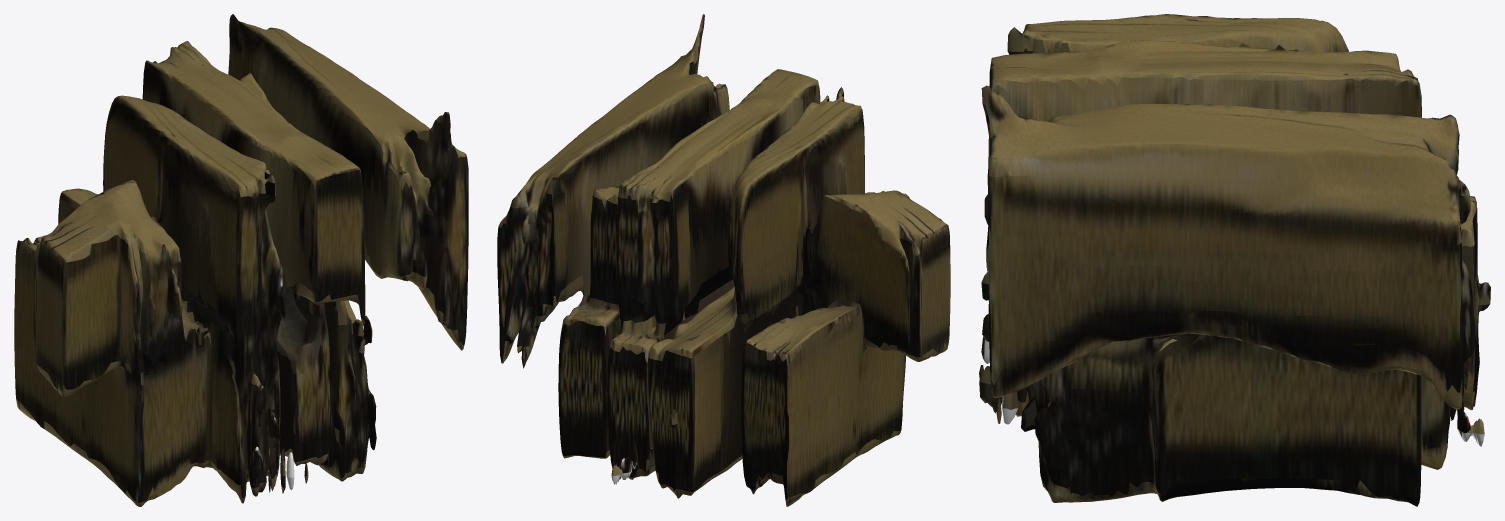
The model's file is debris-timber.glb.
3 views of the same model, side by side, from view 1: azimuth 30°, elevation 25°; view 2: azimuth 150°, elevation 25°; view 3: azimuth 270°, elevation 25° (orthographic). The views are drawn at different scales.
Visible parts, largest first — view 1: tmpg8bpv40l.ply; view 2: tmpg8bpv40l.ply; view 3: tmpg8bpv40l.ply.
Boxes of the visible parts, left/top/right/bottom form: tmpg8bpv40l.ply: left=14, top=14, right=468, bottom=506; tmpg8bpv40l.ply: left=497, top=14, right=950, bottom=506; tmpg8bpv40l.ply: left=979, top=14, right=1490, bottom=506.
Bounding box in the file's own units: 1 × 1 × 1.
Materials: 1 (1 with a texture image).
